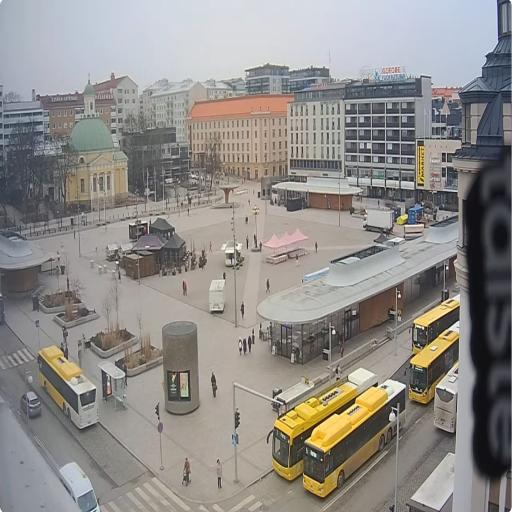bus: (301, 379, 409, 500), (266, 367, 380, 479), (36, 344, 101, 436), (407, 319, 460, 406), (408, 288, 460, 357), (431, 356, 459, 436)
car: (18, 389, 42, 422), (206, 172, 214, 182), (190, 174, 196, 180)
delivery: (56, 458, 100, 512), (363, 208, 394, 235)
